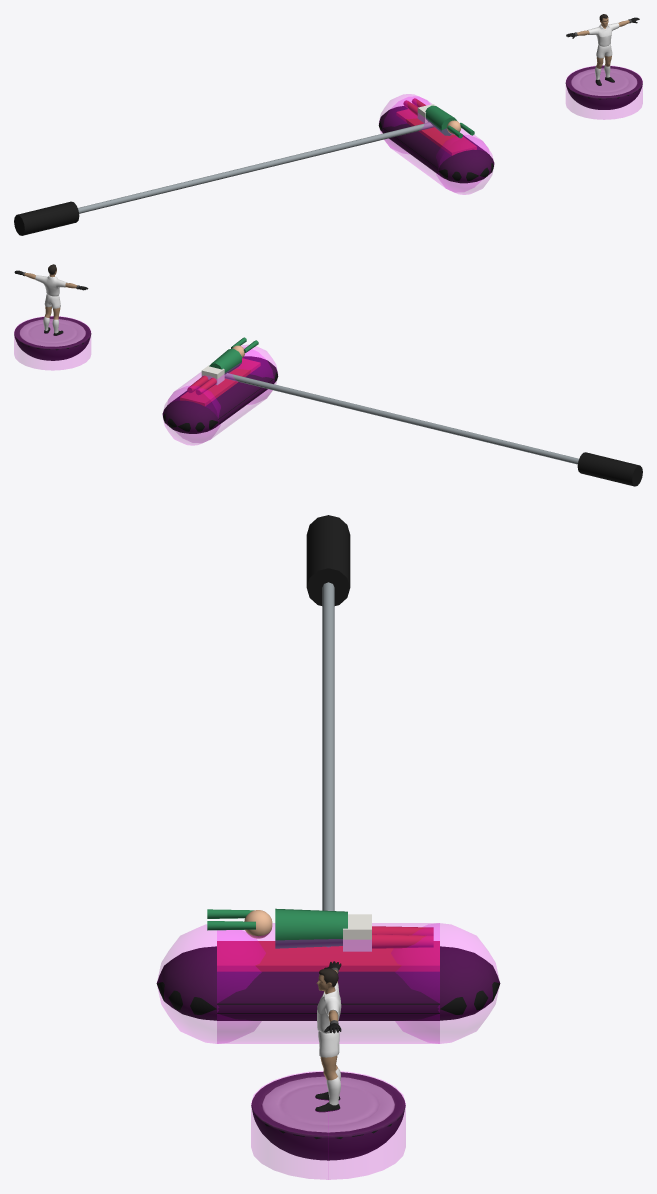
File: pin.glb
The picture shows the model from 3 angles, top to bottom: view 1: azimuth 30°, elevation 25°; view 2: azimuth 150°, elevation 25°; view 3: azimuth 270°, elevation 25°; orthographic projection. The views are drawn at different scales.
Parts seen in each view (by area): view 1: CoP_Keeper_Body, CoP_Pin, SM_Pin_Base_002_Classic, SM_Keeper_Rod, CoP_Keeper_CapR, SM_Keeper_Base, SM_Keeper_CapR, SM_Keeper_Knob, SM_Pin_Player_Kit, SM_Keeper_Insert, CoP_Keeper_CapL, SM_Keeper_Torso; view 2: CoP_Keeper_Body, CoP_Pin, SM_Pin_Base_002_Classic, SM_Keeper_Rod, CoP_Keeper_CapL, SM_Keeper_Base, SM_Keeper_CapL, SM_Keeper_Knob, SM_Pin_Player_Kit, SM_Keeper_Insert, CoP_Keeper_CapR, SM_Keeper_Torso; view 3: CoP_Keeper_Body, CoP_Pin, SM_Pin_Base_002_Classic, SM_Keeper_Base, CoP_Keeper_CapR, CoP_Keeper_CapL, SM_Keeper_Insert, SM_Keeper_Rod, SM_Keeper_CapL, SM_Keeper_CapR, SM_Keeper_Knob, SM_Pin_Player_Kit (+2 smaller).
Boxes of the visible parts, left/top/right/bottom form: CoP_Keeper_Body: left=383, top=96, right=488, bottom=191; CoP_Pin: left=566, top=65, right=642, bottom=119; SM_Pin_Base_002_Classic: left=565, top=65, right=642, bottom=109; SM_Keeper_Rod: left=78, top=122, right=434, bottom=213; CoP_Keeper_CapR: left=436, top=135, right=494, bottom=194; SM_Keeper_Base: left=383, top=116, right=484, bottom=175; SM_Keeper_CapR: left=437, top=149, right=494, bottom=183; SM_Keeper_Knob: left=14, top=201, right=79, bottom=235; SM_Pin_Player_Kit: left=577, top=14, right=629, bottom=85; SM_Keeper_Insert: left=396, top=109, right=476, bottom=155; CoP_Keeper_CapL: left=379, top=94, right=429, bottom=153; SM_Keeper_Torso: left=425, top=105, right=456, bottom=135; CoP_Keeper_Body: left=168, top=347, right=273, bottom=442; CoP_Pin: left=14, top=316, right=90, bottom=370; SM_Pin_Base_002_Classic: left=14, top=316, right=91, bottom=360; SM_Keeper_Rod: left=224, top=373, right=578, bottom=464; CoP_Keeper_CapL: left=162, top=386, right=220, bottom=445; SM_Keeper_Base: left=172, top=366, right=273, bottom=427; SM_Keeper_CapL: left=162, top=400, right=219, bottom=433; SM_Keeper_Knob: left=577, top=452, right=642, bottom=486; SM_Pin_Player_Kit: left=24, top=264, right=76, bottom=335; SM_Keeper_Insert: left=180, top=358, right=260, bottom=406; CoP_Keeper_CapR: left=238, top=345, right=277, bottom=404; SM_Keeper_Torso: left=209, top=348, right=241, bottom=374; CoP_Keeper_Body: left=217, top=923, right=439, bottom=1043; CoP_Pin: left=251, top=1071, right=405, bottom=1179; SM_Pin_Base_002_Classic: left=251, top=1072, right=405, bottom=1160; SM_Keeper_Base: left=217, top=971, right=439, bottom=1020; CoP_Keeper_CapR: left=157, top=924, right=265, bottom=1043; CoP_Keeper_CapL: left=391, top=923, right=499, bottom=1043; SM_Keeper_Insert: left=217, top=941, right=439, bottom=971; SM_Keeper_Rod: left=322, top=582, right=334, bottom=947; SM_Keeper_CapL: left=434, top=946, right=500, bottom=1020; SM_Keeper_CapR: left=156, top=946, right=222, bottom=1020; SM_Keeper_Knob: left=306, top=515, right=350, bottom=605; SM_Pin_Player_Kit: left=315, top=968, right=341, bottom=1112.
Bounding box in the file's own units: 0.2964 × 0.0531 × 0.071.
Materials: 11 (2 with a texture image).
